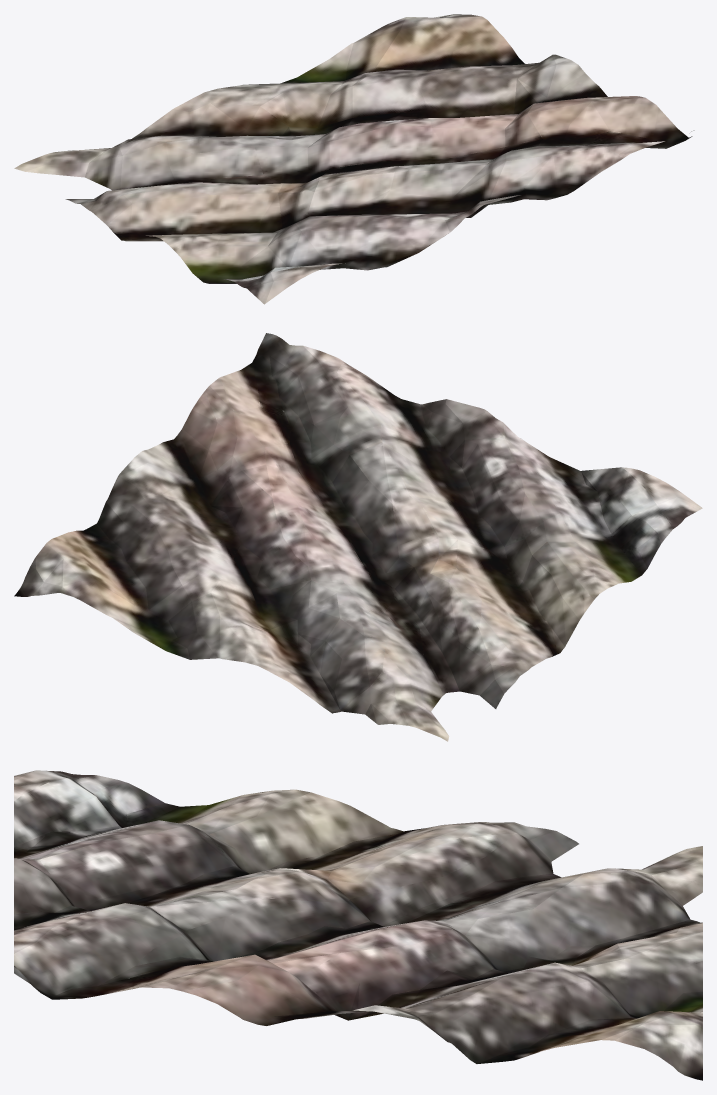
3 views of the same model, one above another, from view 1: azimuth 30°, elevation 25°; view 2: azimuth 150°, elevation 25°; view 3: azimuth 270°, elevation 25° (orthographic). The views are drawn at different scales.
Bounding box in the file's own units: 0.8374 × 0.2178 × 0.8374.
3 materials, 3 textured.
